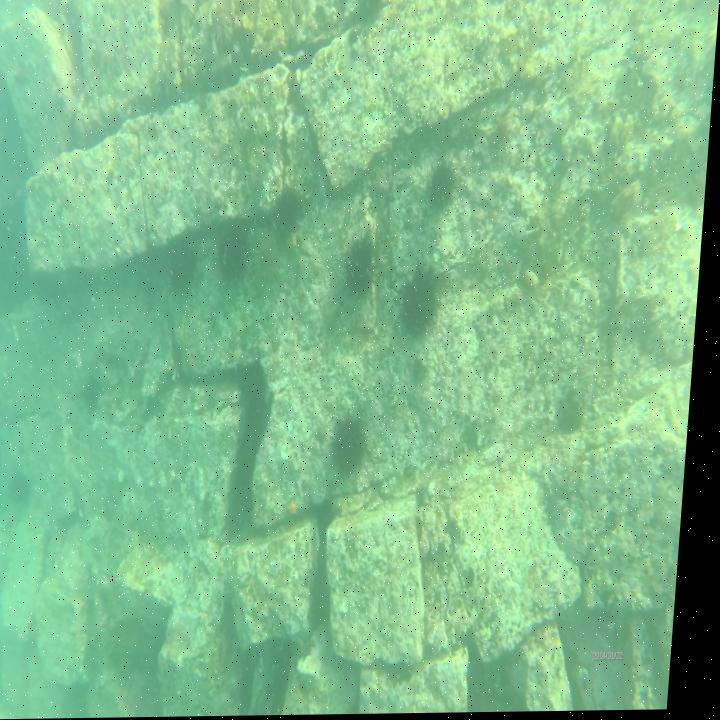echinus: (403, 263, 451, 340), (332, 406, 379, 477), (342, 230, 387, 294), (269, 183, 309, 244), (219, 215, 255, 279), (251, 228, 290, 282), (429, 157, 465, 214), (168, 244, 203, 294), (88, 376, 110, 413), (17, 469, 41, 501)
starfish: (294, 499, 308, 520)
